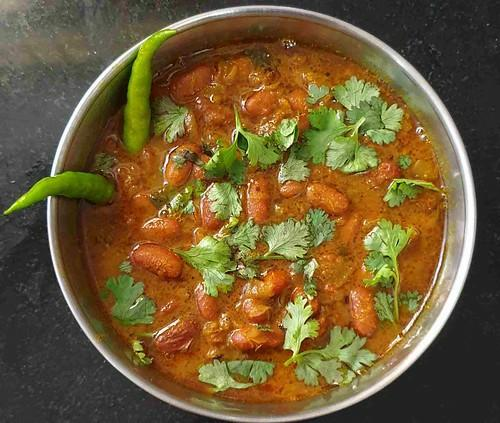RajmaCurry: (72, 38, 446, 404)
